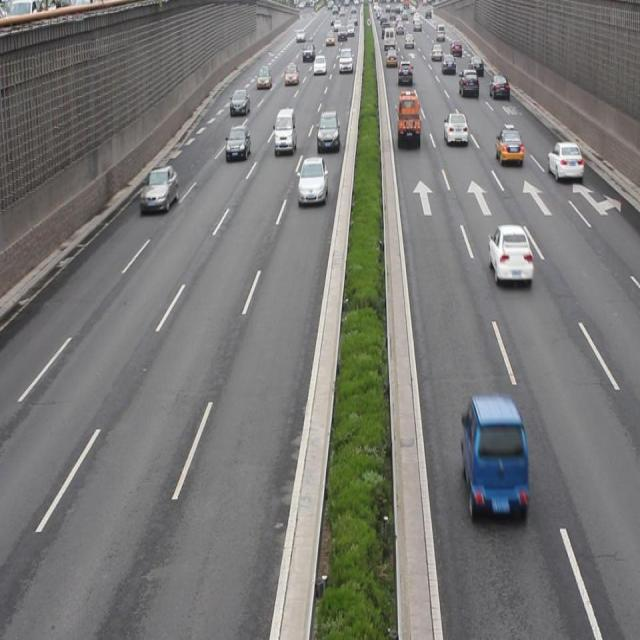bus: (396, 92, 418, 144)
car: (461, 396, 526, 524), (487, 221, 532, 289), (139, 163, 178, 210), (297, 158, 326, 204), (547, 142, 581, 180), (494, 125, 522, 165), (225, 124, 250, 159), (443, 111, 467, 146), (317, 113, 338, 147)
truck: (274, 108, 295, 152)
